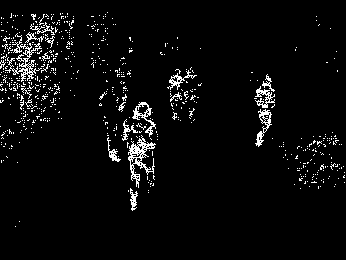person: (123, 100, 157, 211), (254, 72, 277, 147), (182, 67, 202, 123), (168, 68, 183, 122)
